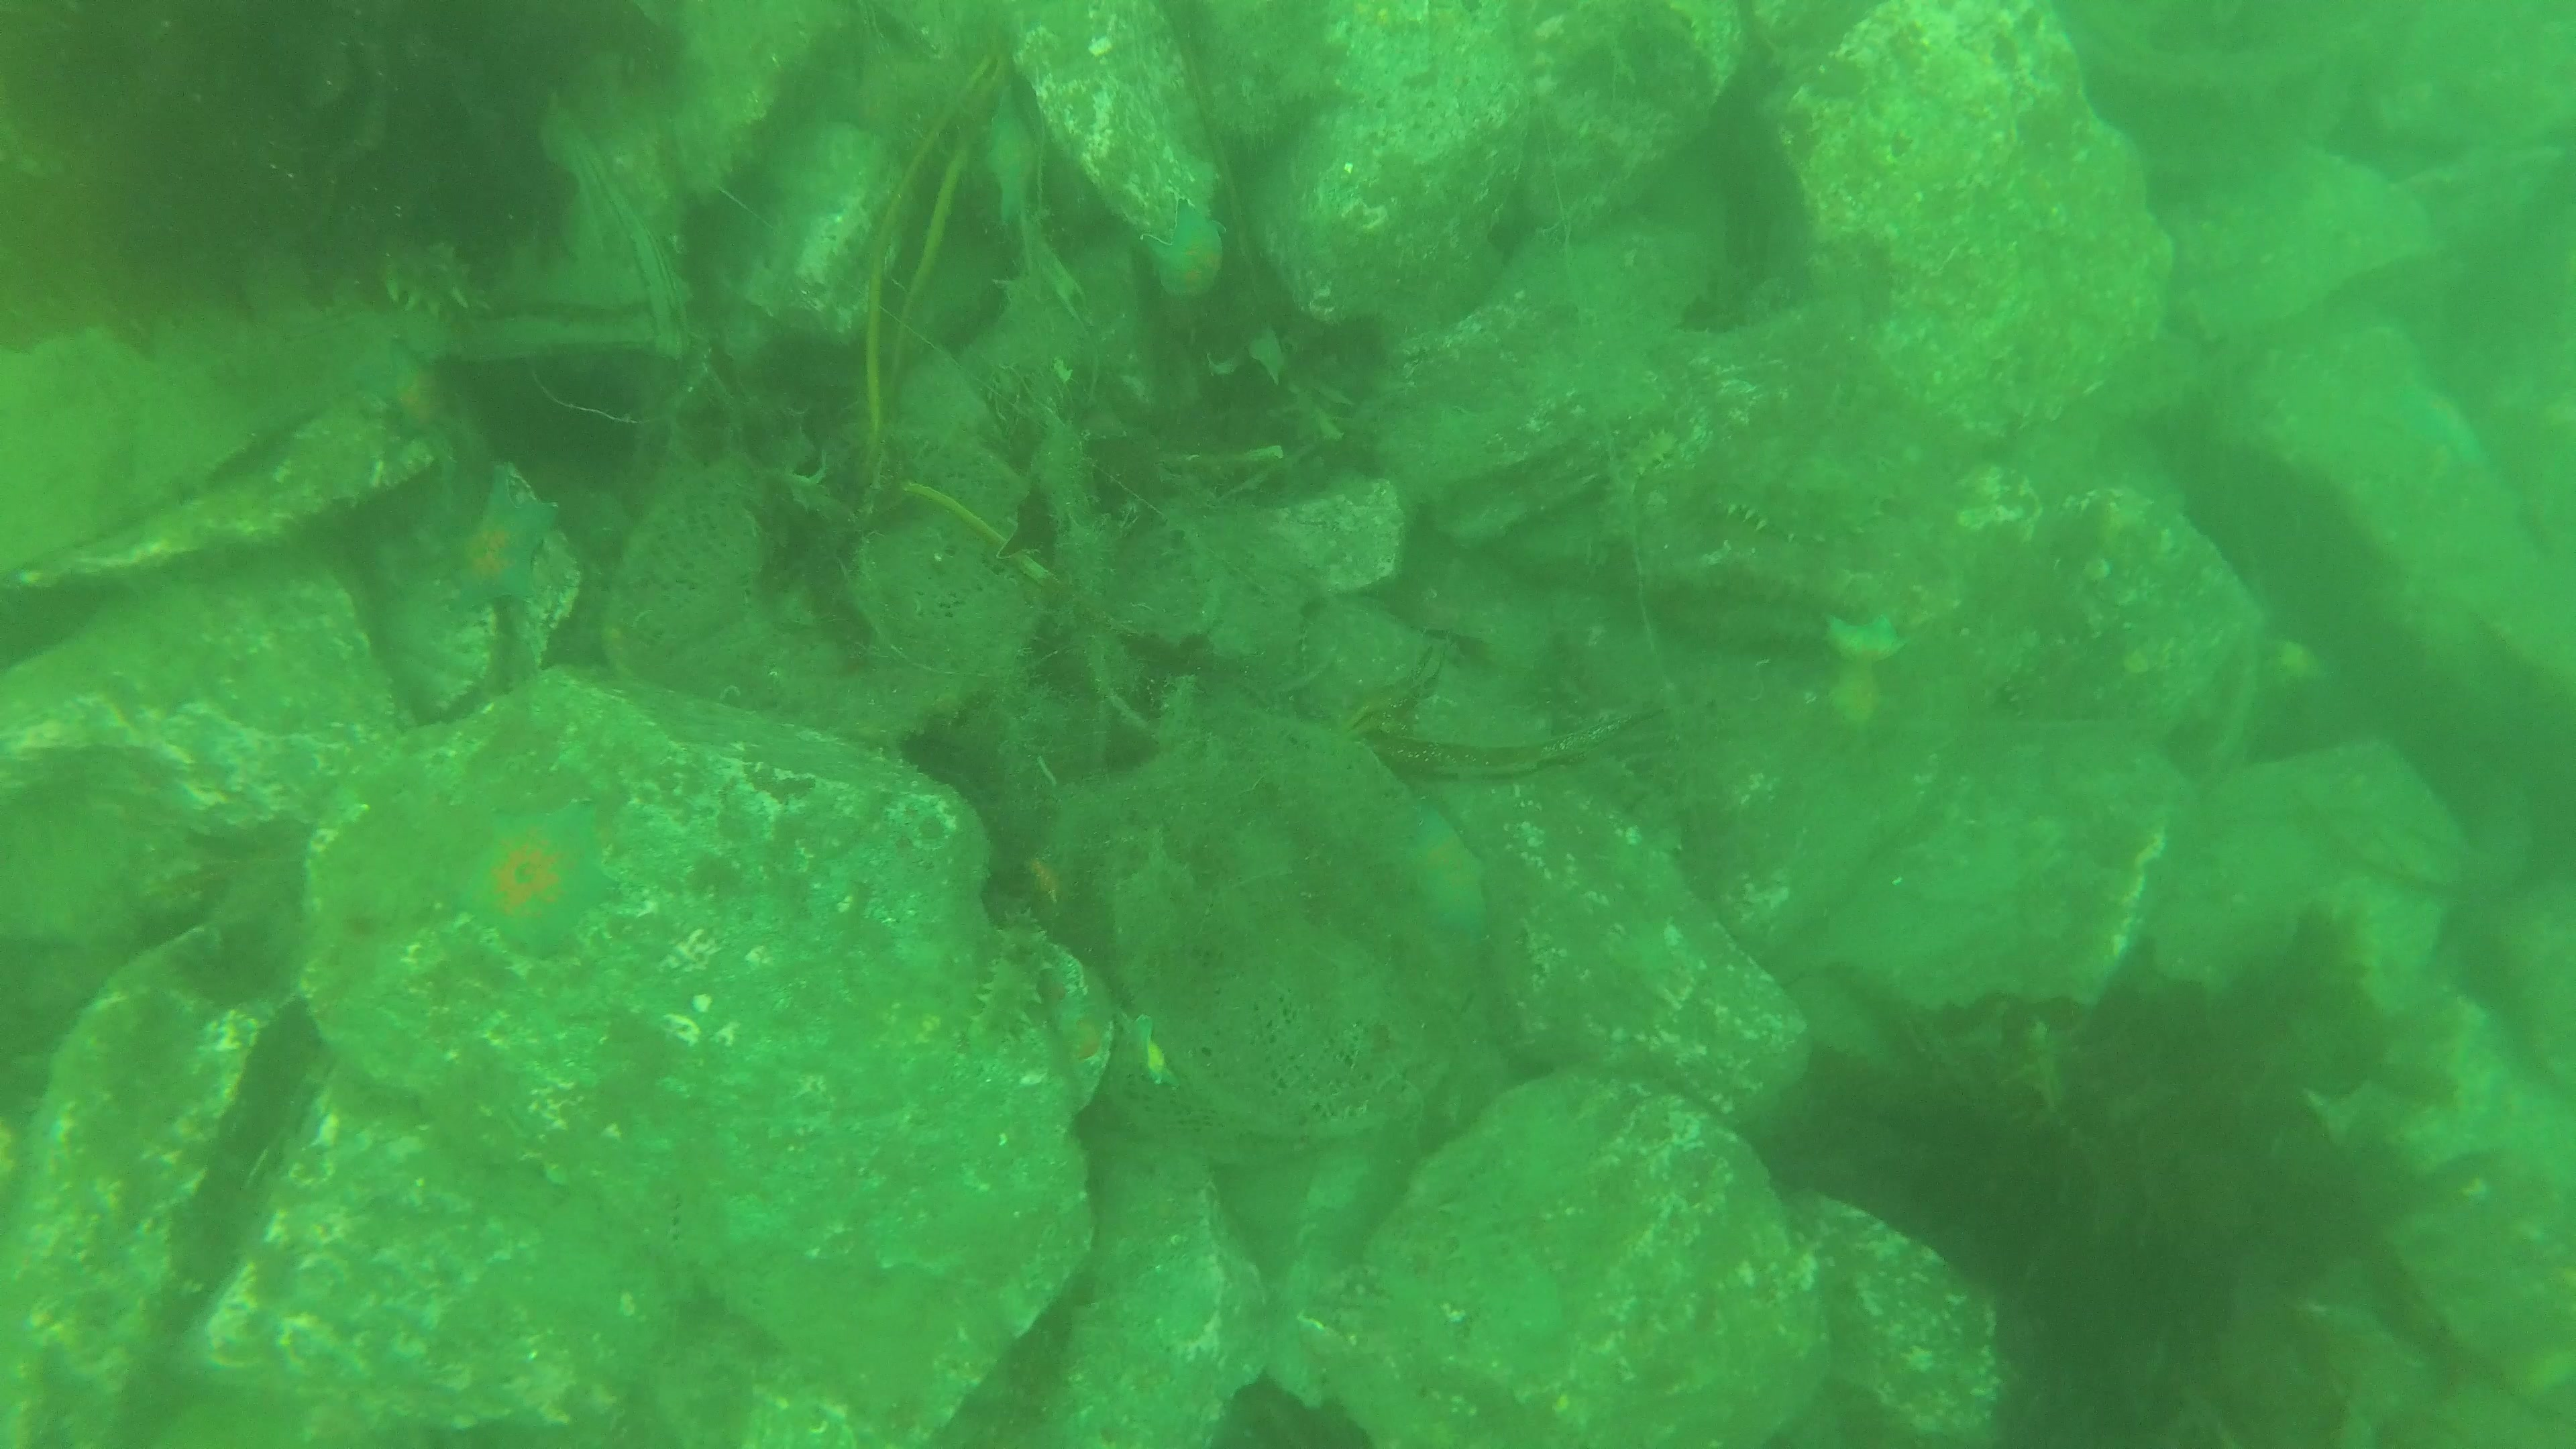holothurian: (290, 173, 497, 329), (962, 869, 1054, 1079), (1603, 425, 1679, 541), (1706, 497, 1831, 550)
starfish: (442, 793, 621, 971), (428, 462, 566, 625), (1403, 801, 1495, 932), (1131, 198, 1233, 306), (1817, 610, 1921, 688)
